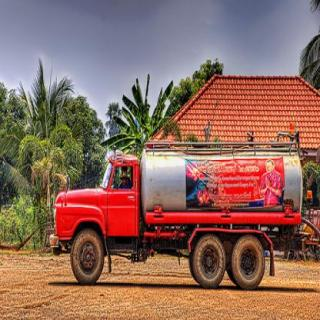Normal_vehicle: (51, 135, 306, 292)
